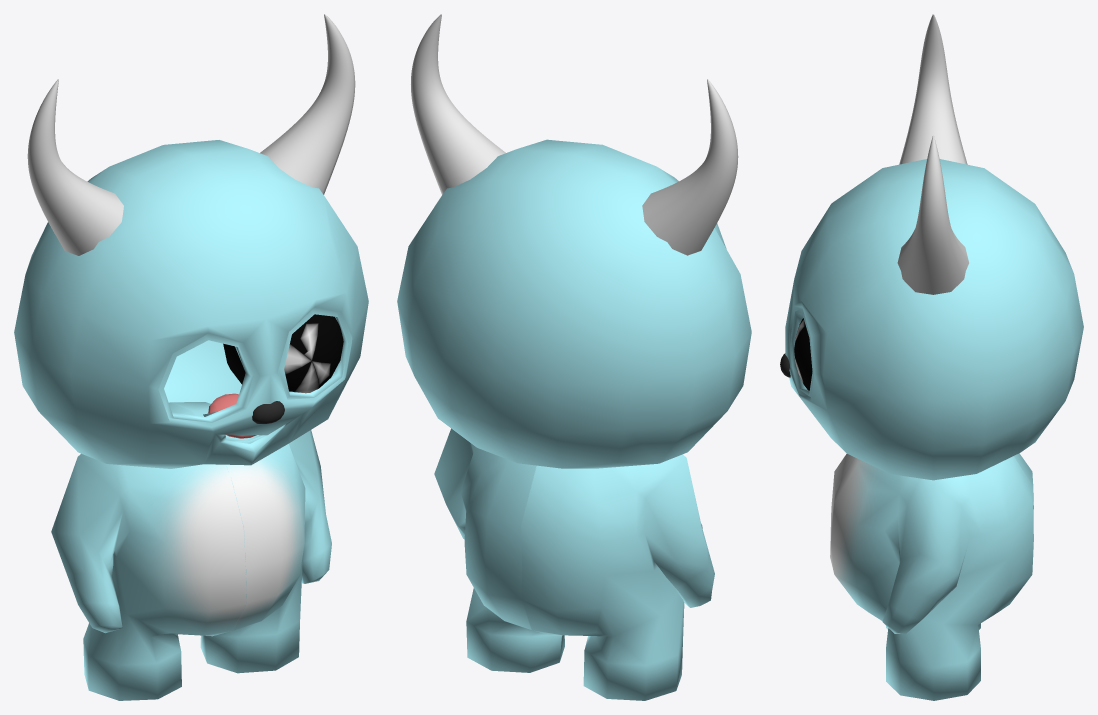
The model's file is monster.glb.
3 renders of one model, left to right at view 1: azimuth 30°, elevation 25°; view 2: azimuth 150°, elevation 25°; view 3: azimuth 270°, elevation 25°, orthographic. The views are drawn at different scales.
Parts seen in each view (by area): view 1: Roundcube.001, NurbsPath, Tiny Eye 1.1.1, Roundcube.002; view 2: Roundcube.001, NurbsPath; view 3: Roundcube.001, NurbsPath, Tiny Eye 1.1.1.
Boxes of the visible parts, <box> form: Roundcube.001: <box>14,140,368,700</box>; NurbsPath: <box>27,14,355,255</box>; Tiny Eye 1.1.1: <box>223,314,343,393</box>; Roundcube.002: <box>252,401,284,423</box>; Roundcube.001: <box>397,139,751,700</box>; NurbsPath: <box>411,14,738,255</box>; Roundcube.001: <box>785,159,1083,700</box>; NurbsPath: <box>897,14,968,294</box>; Tiny Eye 1.1.1: <box>794,318,812,390</box>.
Size of the model in its own units: 1.97 by 3.6 by 1.71.
Materials: 6 (1 with a texture image).
